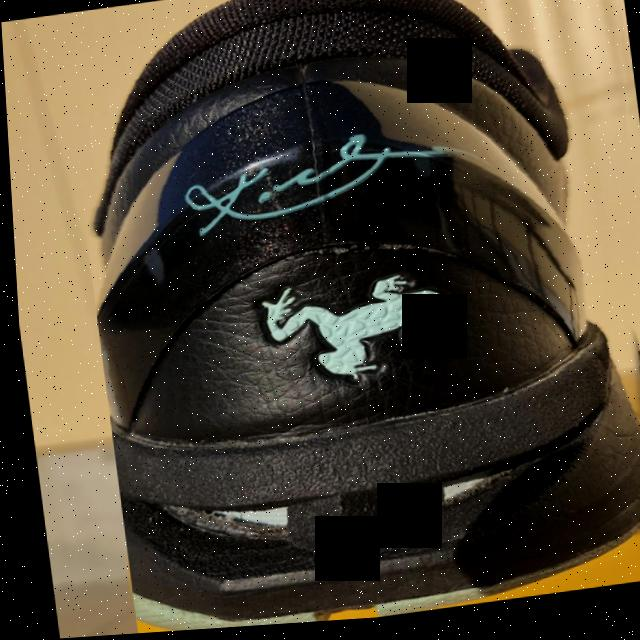shoe: (56, 0, 640, 637)
